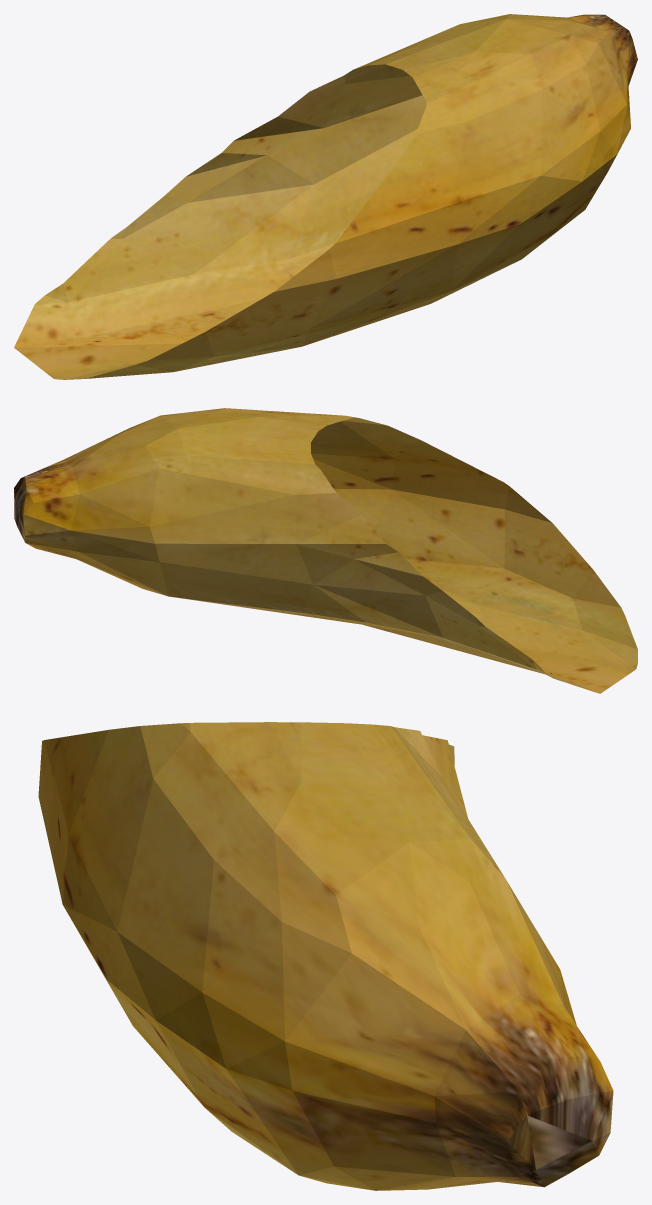
Rendered from banaanOnderkant.obj.
The picture shows the model from 3 angles, top to bottom: view 1: azimuth 30°, elevation 25°; view 2: azimuth 150°, elevation 25°; view 3: azimuth 270°, elevation 25°; orthographic projection. The views are drawn at different scales.
Visible parts, largest first — view 1: Banana.000; view 2: Banana.000; view 3: Banana.000.
Part boxes in pixels (<box>): Banana.000: <box>14,14,637,379</box>; Banana.000: <box>14,408,637,693</box>; Banana.000: <box>38,722,613,1190</box>.
Bounding box in the file's own units: 1.66 × 0.5182 × 0.7485.
Materials: 1 (1 with a texture image).
